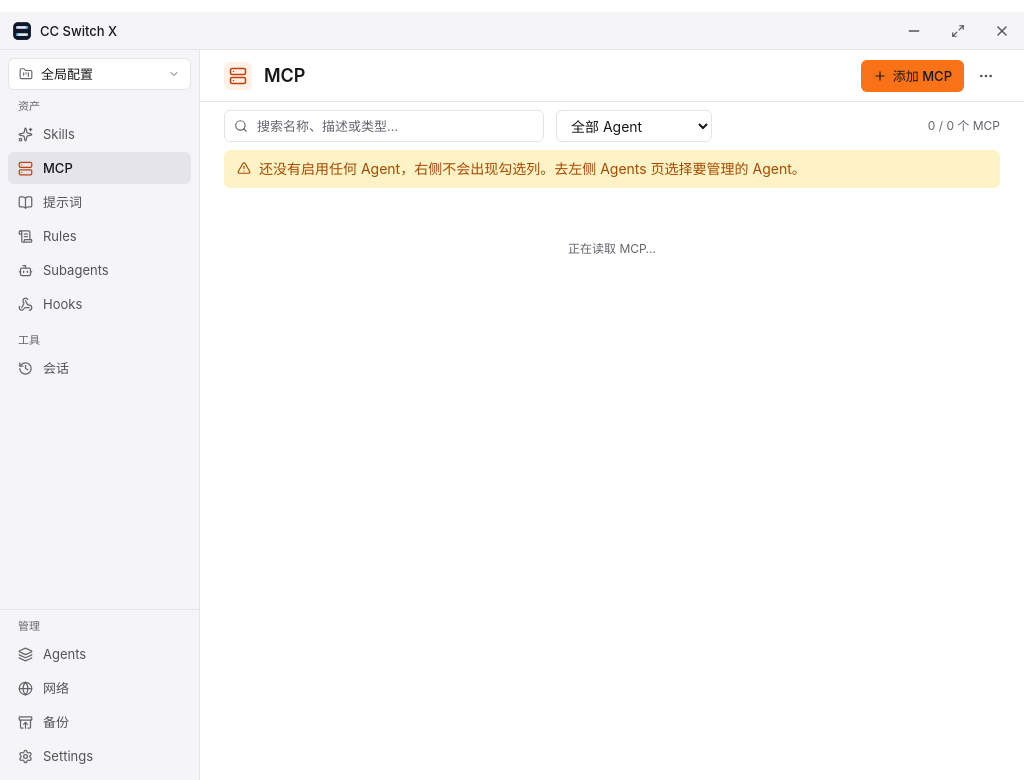
Test: 选「全局配置」切回全局范围
Click the button with aria-label "配置范围：" at (100, 74), box x1=8 y1=58 x2=191 y2=90
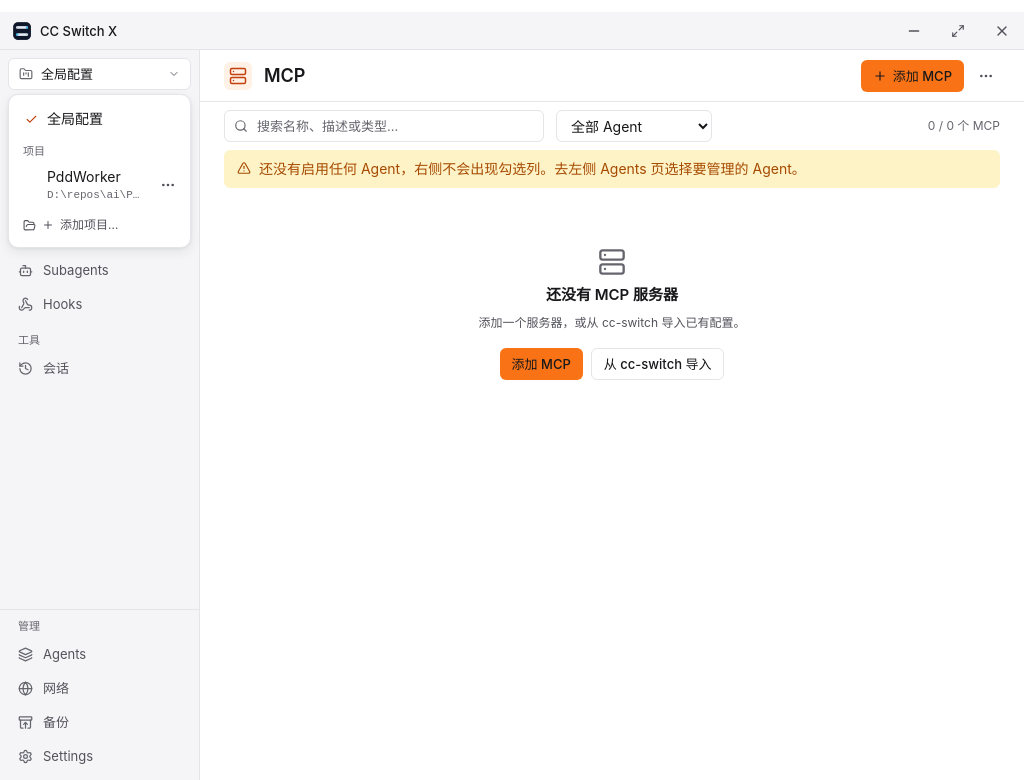
Click the button "PddWorker D:\\repos\\ai\\PddWorker" at (84, 185), box x1=17 y1=163 x2=152 y2=207
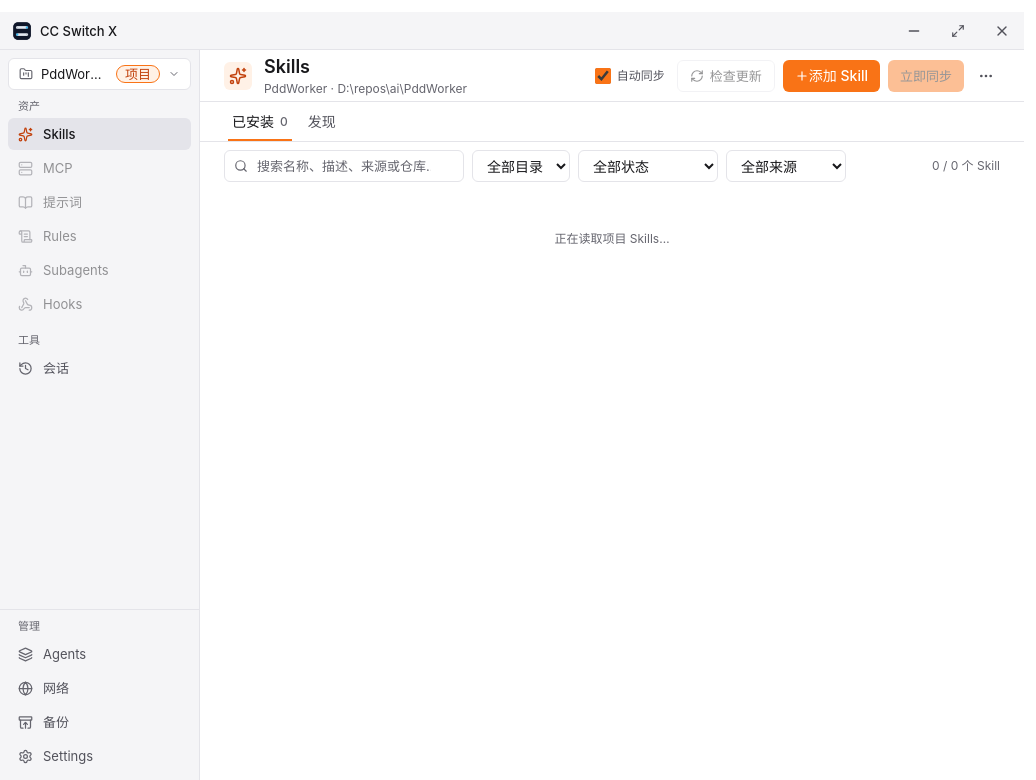
Click the button with aria-label "配置范围：" at (100, 74), box x1=8 y1=58 x2=191 y2=90
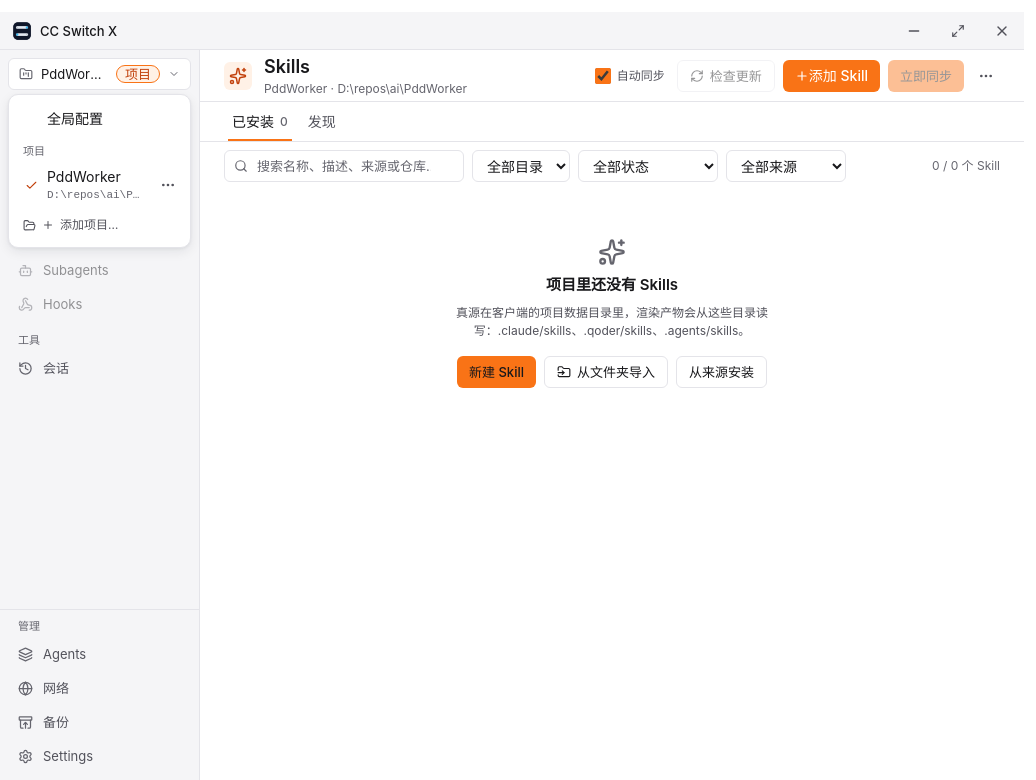
Click the button "全局配置" at (100, 119), box x1=17 y1=103 x2=182 y2=135
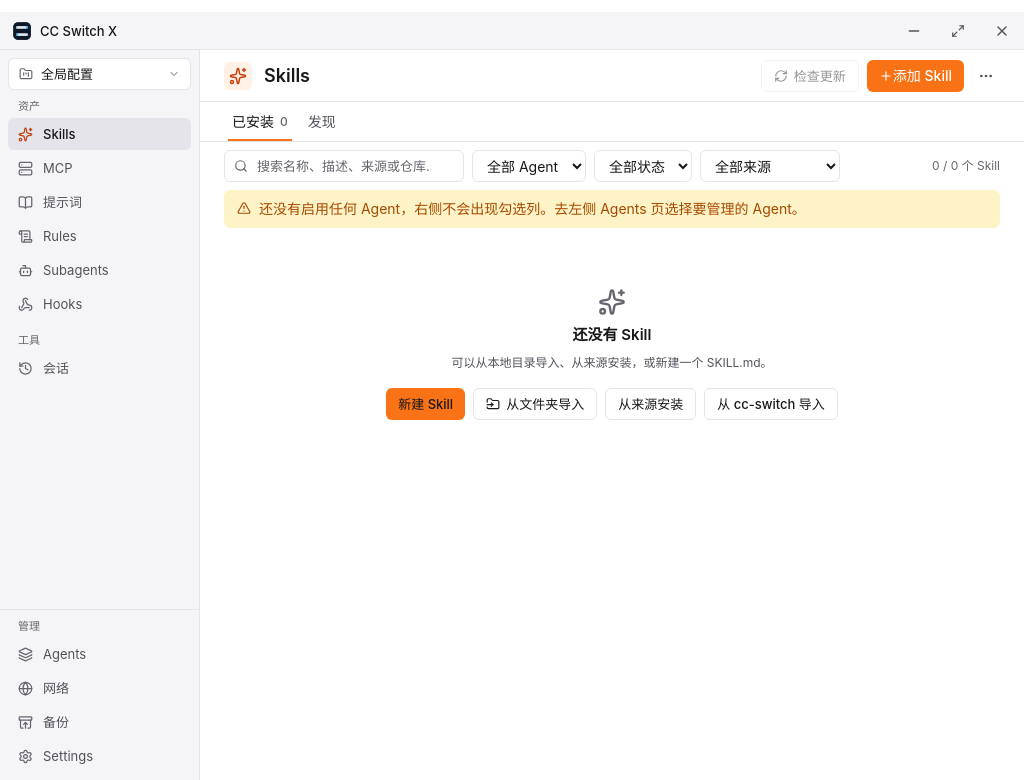
Check: the button "MCP" is enabled, box x1=8 y1=152 x2=191 y2=184
